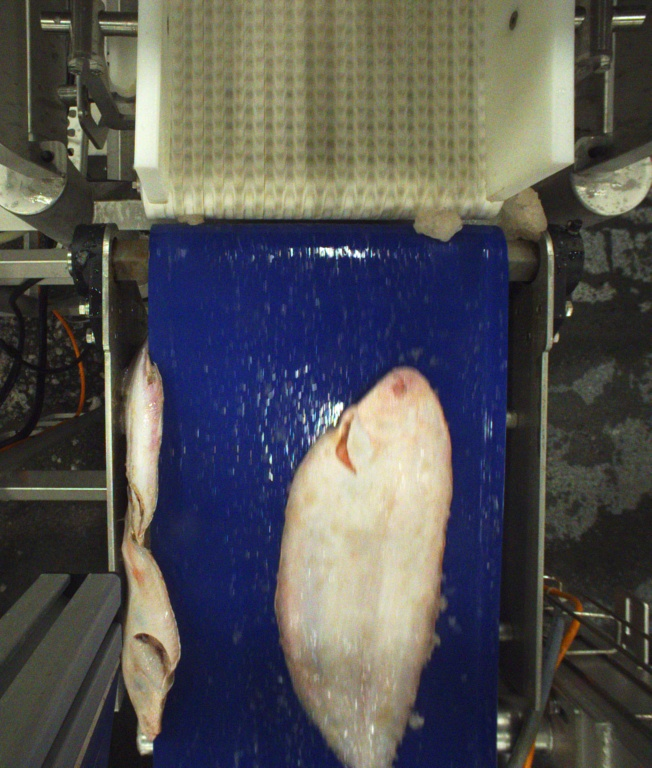SOL: (276, 367, 450, 768)
